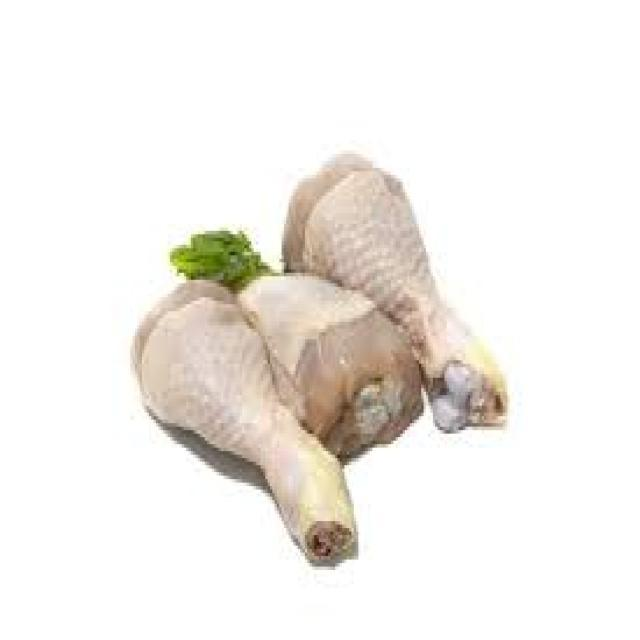leg: (123, 278, 354, 570), (274, 153, 510, 425), (232, 268, 418, 453)
